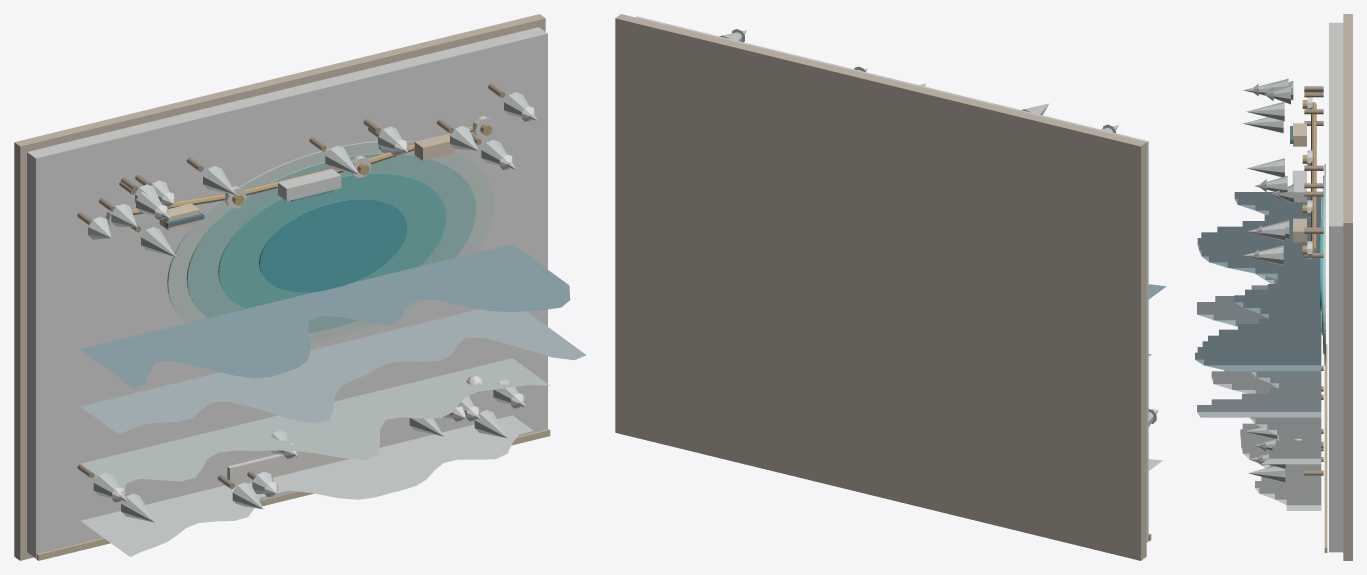
Rendered from winter.glb.
3 views of the same model, side by side, from view 1: azimuth 30°, elevation 25°; view 2: azimuth 150°, elevation 25°; view 3: azimuth 270°, elevation 25° (orthographic). The views are drawn at different scales.
Visible parts, largest first — view 1: part_000, part_009, part_008, part_007, part_006, part_001, part_004, part_005, part_003, part_002, part_087, part_084 (+2 smaller); view 2: part_001, part_000; view 3: part_009, part_000, part_001, part_008, part_007, part_006, part_010, part_084, part_055, part_060, part_067, part_002 (+12 smaller).
Boxes of the visible parts, x1,y1,x2,y2 form: part_000: (27, 27, 547, 558); part_009: (81, 244, 570, 388); part_008: (80, 309, 586, 434); part_007: (81, 358, 549, 494); part_006: (80, 415, 533, 556); part_001: (14, 14, 545, 560); part_004: (218, 173, 446, 308); part_005: (259, 198, 407, 292); part_003: (186, 153, 476, 332); part_002: (167, 141, 493, 342); part_087: (227, 451, 349, 501); part_084: (278, 169, 341, 201); part_001: (615, 14, 1146, 560); part_000: (635, 16, 1148, 542); part_009: (1195, 192, 1321, 371); part_000: (1329, 22, 1343, 552); part_001: (1343, 14, 1352, 560); part_008: (1197, 274, 1321, 417); part_007: (1211, 285, 1321, 464); part_006: (1240, 423, 1321, 510); part_010: (1324, 344, 1327, 552); part_084: (1292, 170, 1306, 202); part_055: (1246, 101, 1284, 121); part_060: (1247, 158, 1284, 177); part_067: (1243, 245, 1283, 265); part_002: (1324, 164, 1325, 365).
Size of the model in its own units: 2.31 by 1.74 by 0.7371.
